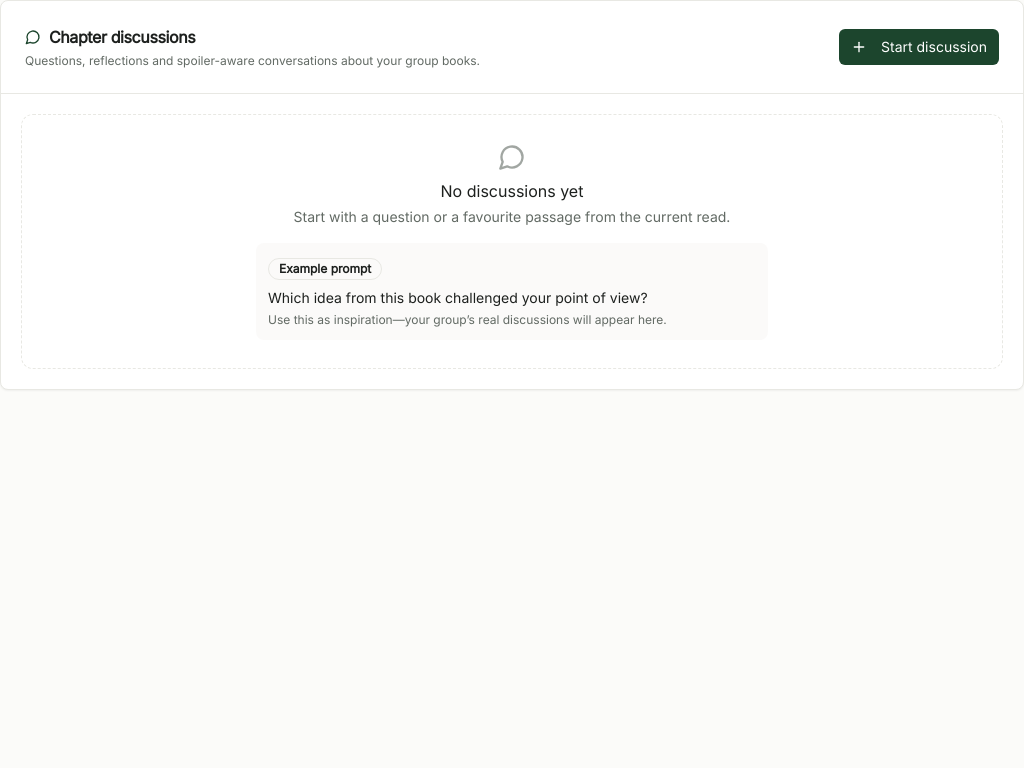
Scenario: GroupReadingDiscussions › allows a member to open the composer and creates a discussion on the current book
Step 1. Click the button "Start discussion" → {"x": 919, "y": 47}, box [839,29,999,65]
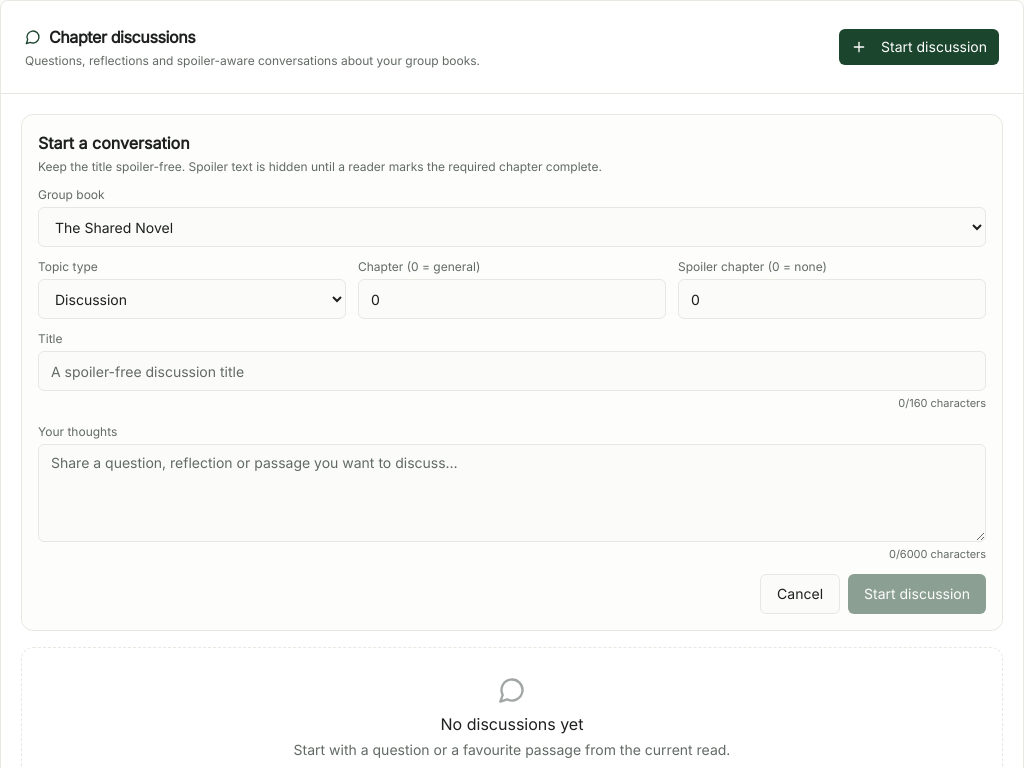
expect the heading "Start a conversation" is shown: met, box [38,133,190,153]
Step 2. Select "Question" in the dropdown labelled "Topic type" → {"x": 192, "y": 299}, box [38,279,346,319]
Step 3. Replace the text in the number field labelled "Chapter (0 = general)" with "4" → {"x": 512, "y": 299}, box [358,279,666,319]
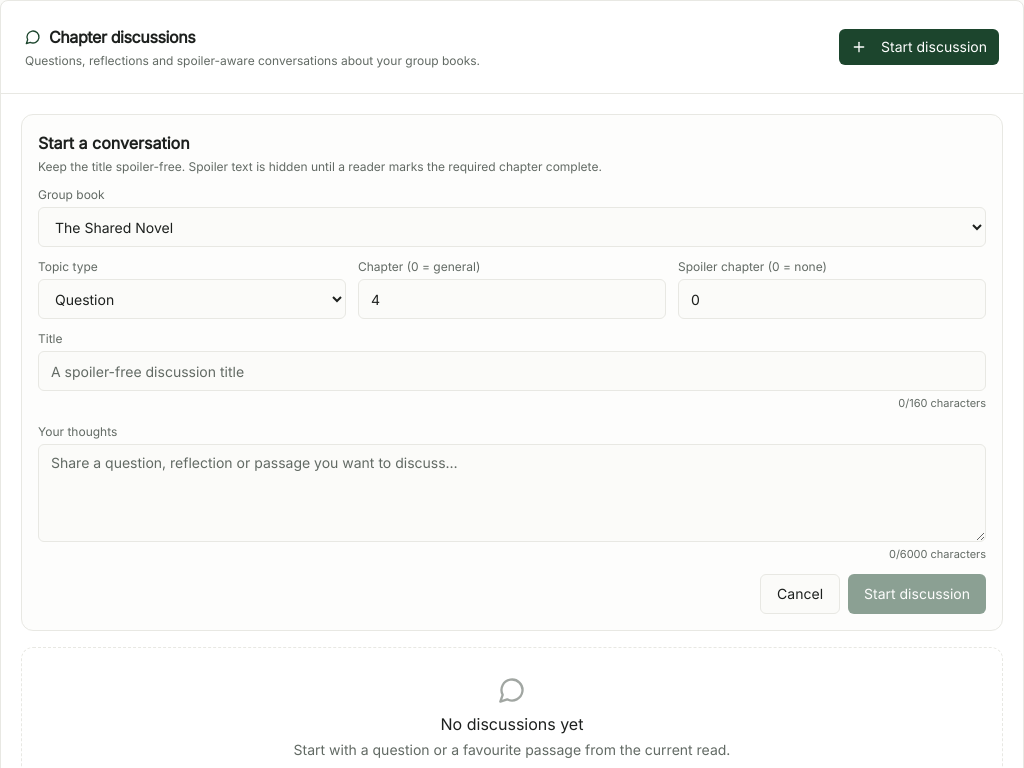
Step 4. Replace the text in the number field labelled "Spoiler chapter (0 = none)" with "6" → {"x": 832, "y": 299}, box [678,279,986,319]
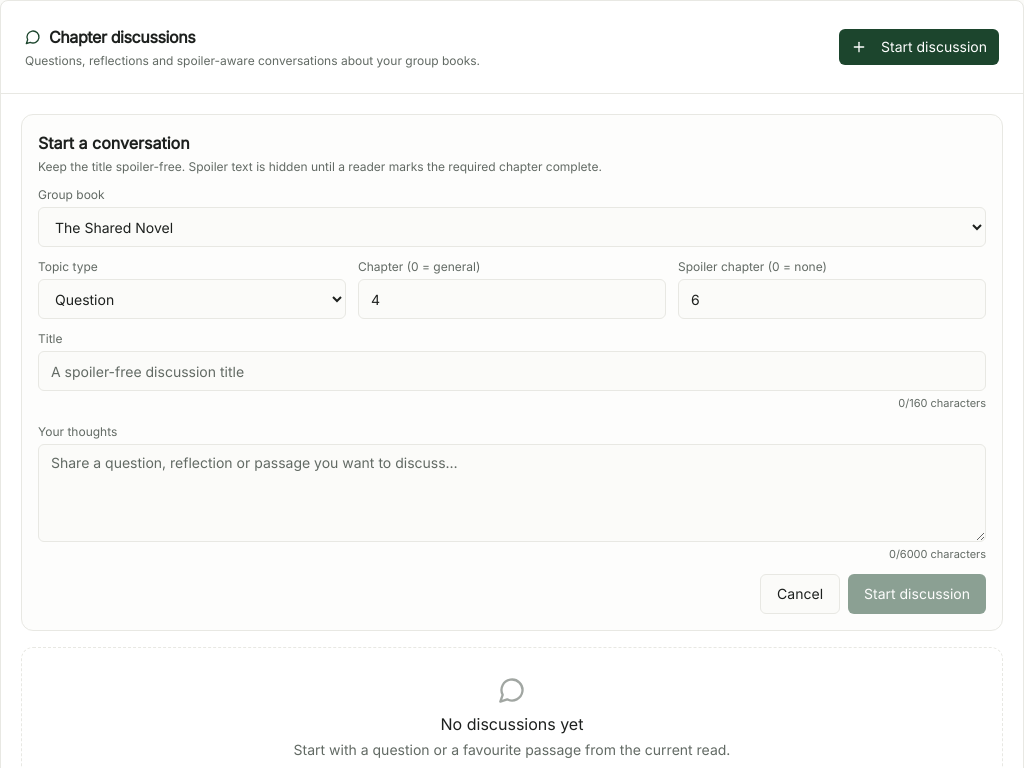
Step 5. Type "Why does the narrator change?" into the field labelled "Title" → {"x": 512, "y": 371}, box [38,351,986,391]
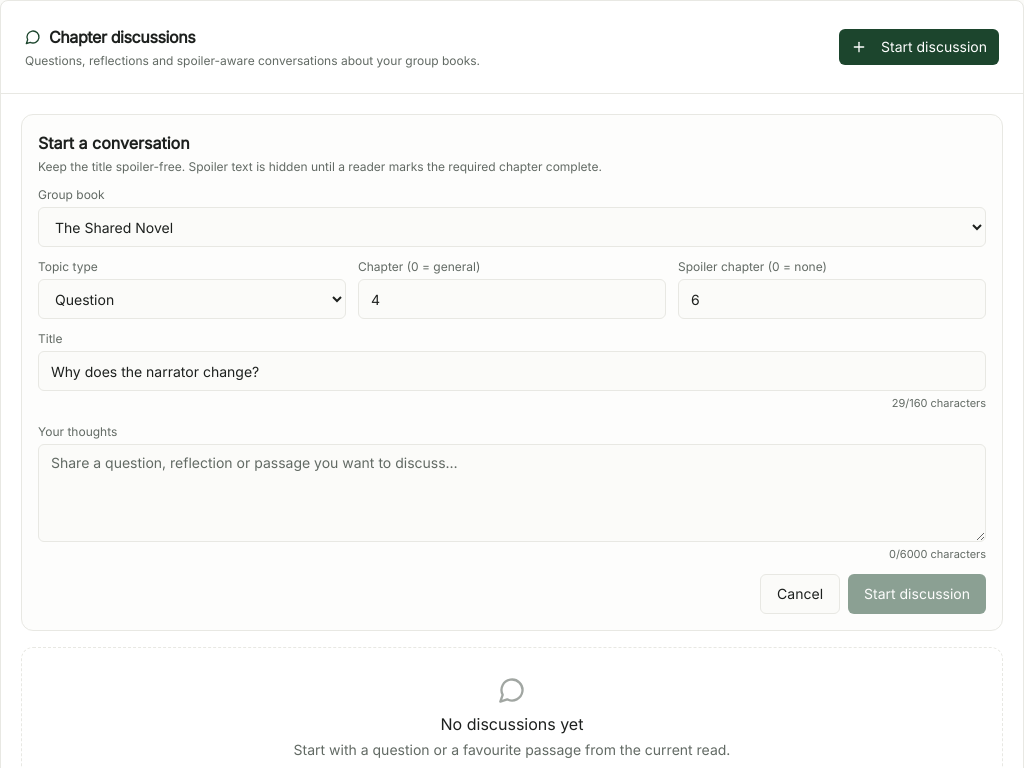
Step 6. Type "I would like to explore this decision." into the text box labelled "Your thoughts" → {"x": 512, "y": 492}, box [38,444,986,542]
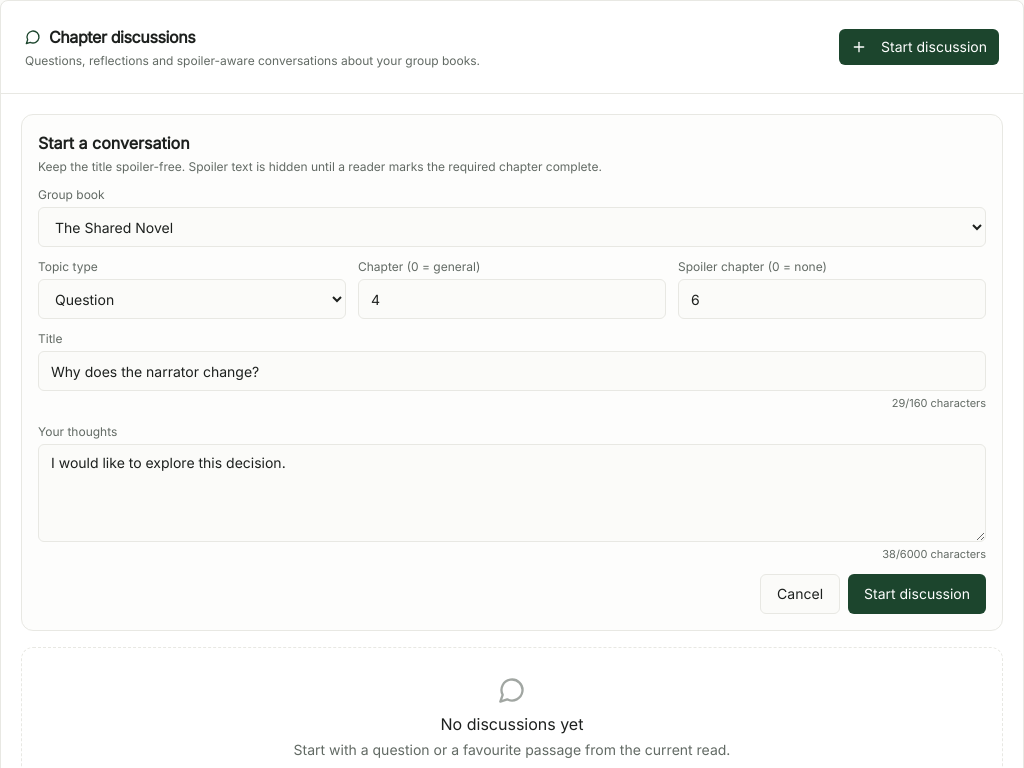
Step 7. Click the button "Start discussion" below "38" → {"x": 917, "y": 594}, box [848,574,986,614]
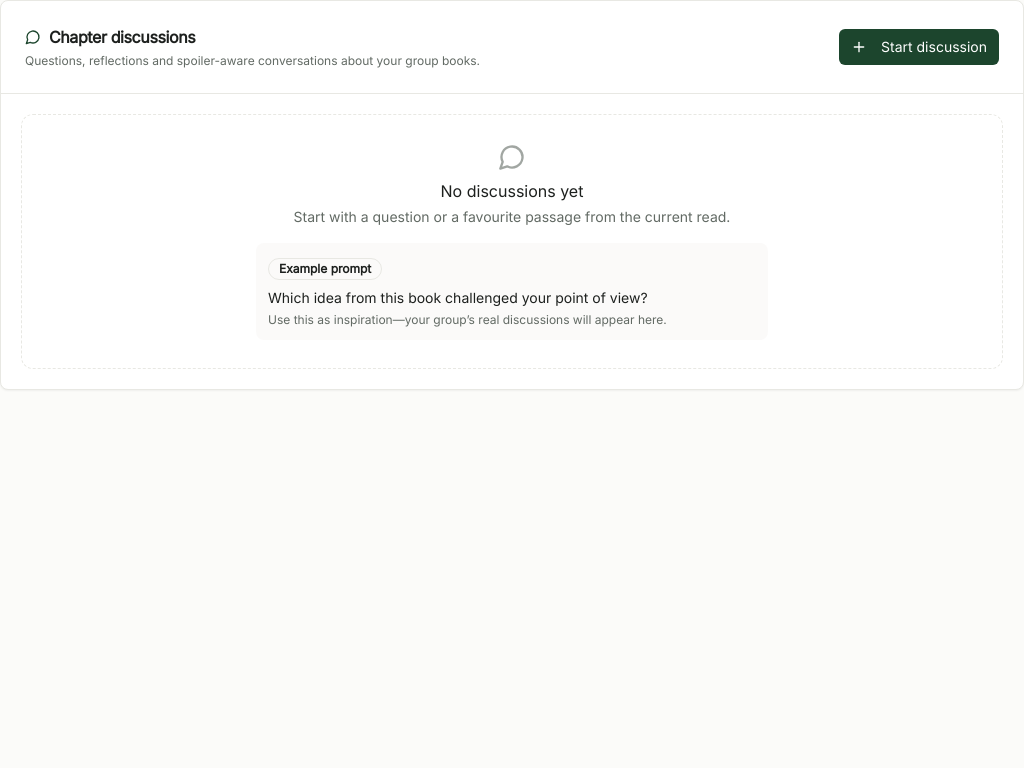
expect the heading "Start a conversation" is gone: met
